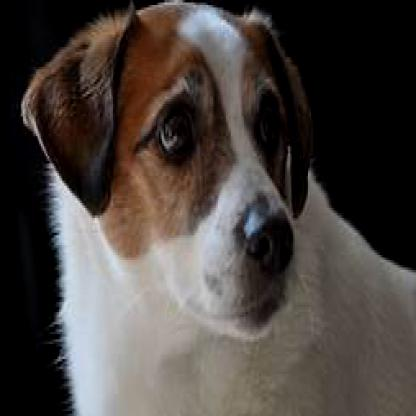dog: (22, 0, 414, 414)
